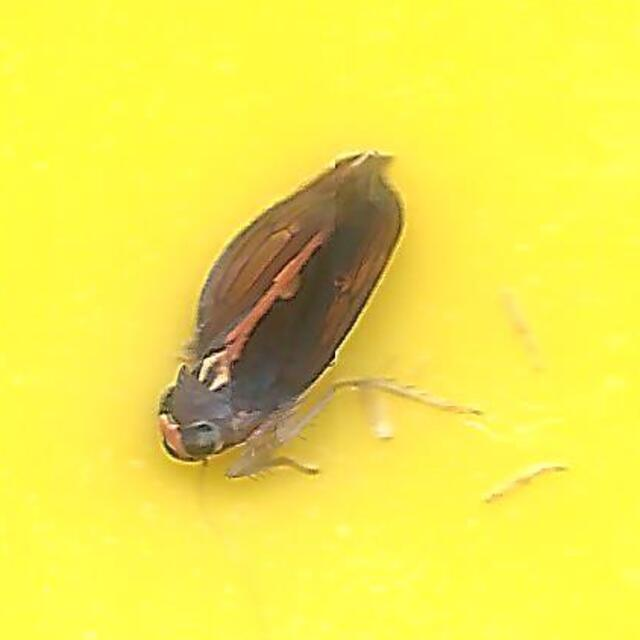Hemiptera: (152, 156, 488, 484)
